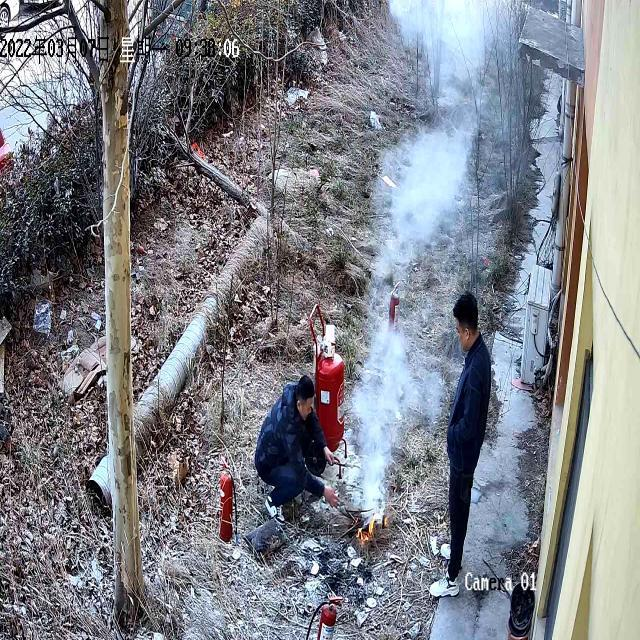Fire: (356, 502, 392, 547)
Smoke: (359, 4, 572, 296), (347, 282, 443, 514)
